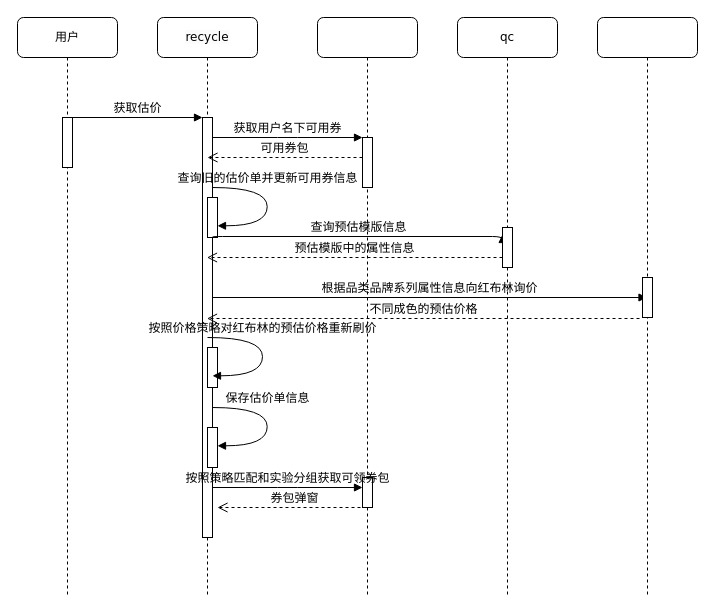
This 715x615 diagram has some shape labels left out. The box of each missing label's shape, as (x1, y1, x2, y2) in pixels:
aladdin: (316, 16, 418, 598)
hbl: (596, 16, 698, 598)
